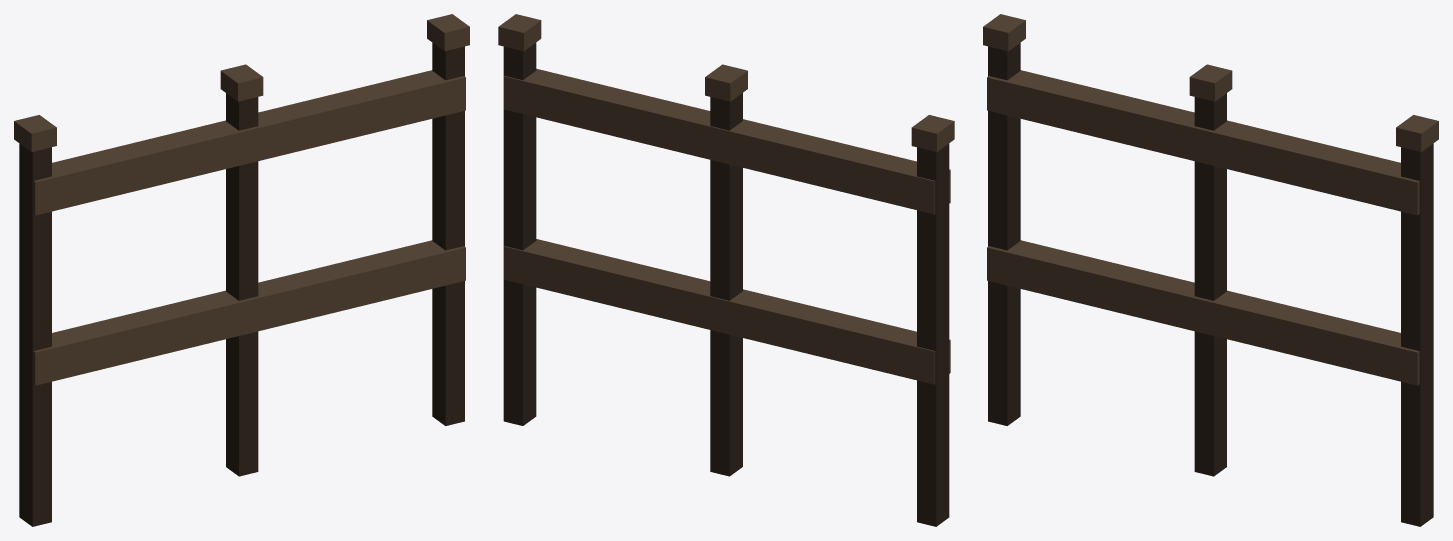
The model's file is CMU3DInheritedStructureRMCBarricadeHandrailKutjevoCloud.glb.
3 views of the same model, side by side, from view 1: azimuth 30°, elevation 25°; view 2: azimuth 150°, elevation 25°; view 3: azimuth 330°, elevation 25° (orthographic).
Parts seen in each view (by area): view 1: timber horizontal rail 0.68, timber horizontal rail 0.31, timber post -0.47, timber post 0, timber post 0.47, post cap 0, post cap 0.47, post cap -0.47; view 2: timber horizontal rail 0.68, timber horizontal rail 0.31, timber post -0.47, timber post 0.47, timber post 0, post cap 0.47, post cap -0.47, post cap 0; view 3: timber horizontal rail 0.68, timber horizontal rail 0.31, timber post 0.47, timber post 0, timber post -0.47, post cap 0, post cap -0.47, post cap 0.47.
Part boxes in pixels (box(x1,y1,x2,y2)): timber horizontal rail 0.68: box(33, 70, 465, 215); timber horizontal rail 0.31: box(33, 240, 465, 385); timber post -0.47: box(19, 143, 51, 526); timber post 0: box(226, 93, 258, 476); timber post 0.47: box(432, 43, 464, 425); post cap 0: box(220, 64, 263, 101); post cap 0.47: box(427, 14, 469, 51); post cap -0.47: box(14, 115, 56, 151); timber horizontal rail 0.68: box(504, 68, 950, 214); timber horizontal rail 0.31: box(504, 239, 950, 384); timber post -0.47: box(917, 143, 949, 526); timber post 0.47: box(503, 42, 536, 425); timber post 0: box(710, 93, 742, 476); post cap 0.47: box(498, 14, 541, 51); post cap -0.47: box(911, 115, 954, 151); post cap 0: box(705, 64, 747, 101); timber horizontal rail 0.68: box(987, 70, 1419, 215); timber horizontal rail 0.31: box(987, 240, 1419, 385); timber post 0.47: box(1401, 143, 1433, 526); timber post 0: box(1194, 93, 1226, 476); timber post -0.47: box(988, 43, 1020, 425); post cap 0: box(1189, 64, 1232, 101); post cap -0.47: box(983, 14, 1025, 51); post cap 0.47: box(1396, 115, 1438, 151).
Size of the model in its own units: 0.998 by 0.86 by 0.069.
